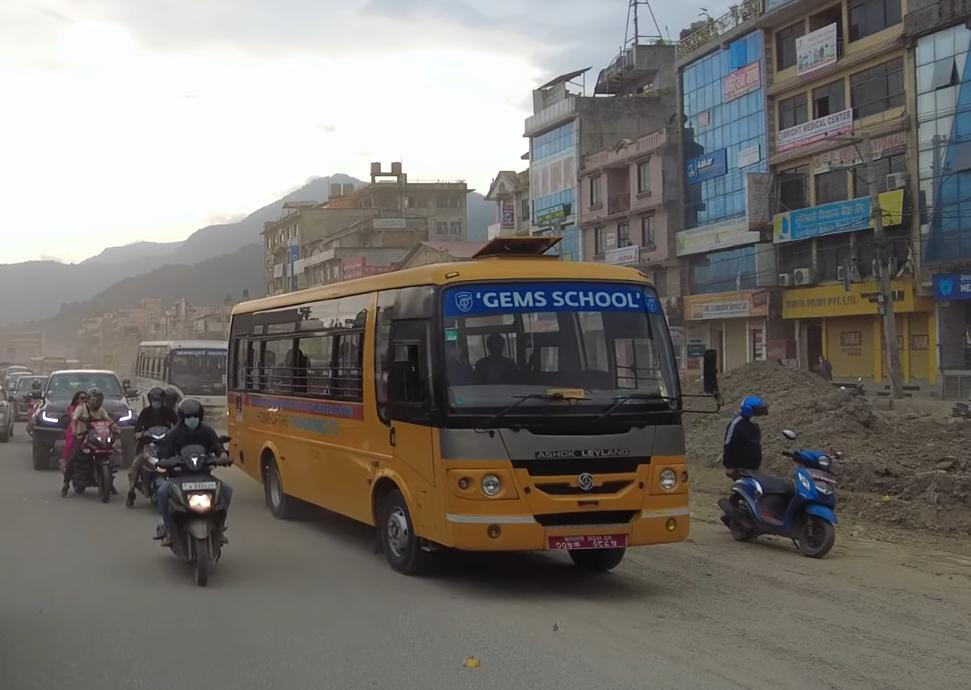bike: (60, 411, 125, 510)
school_bus: (220, 245, 697, 579)
scooter: (727, 438, 850, 561), (148, 445, 242, 591)
